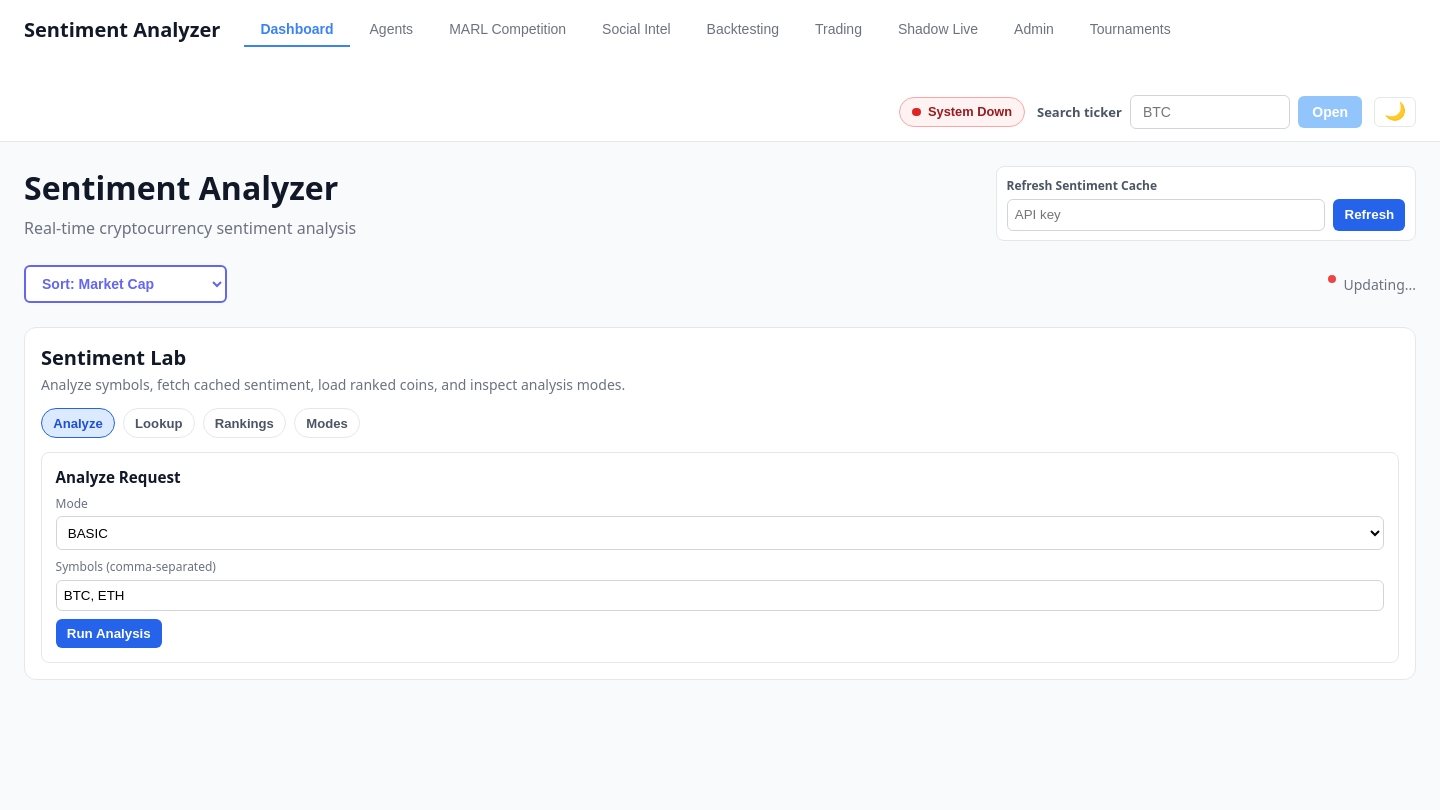
Test case: AgentManagementDashboard — Issue 6 tournament detail enhancements › renders Claude directive block with mutation severity, crossover strategy, and reasoning text (AC4)
The image size is (1440, 810).
Click the button "Agents".
click(391, 30)  # box [354, 12, 429, 46]
(page scrolled)
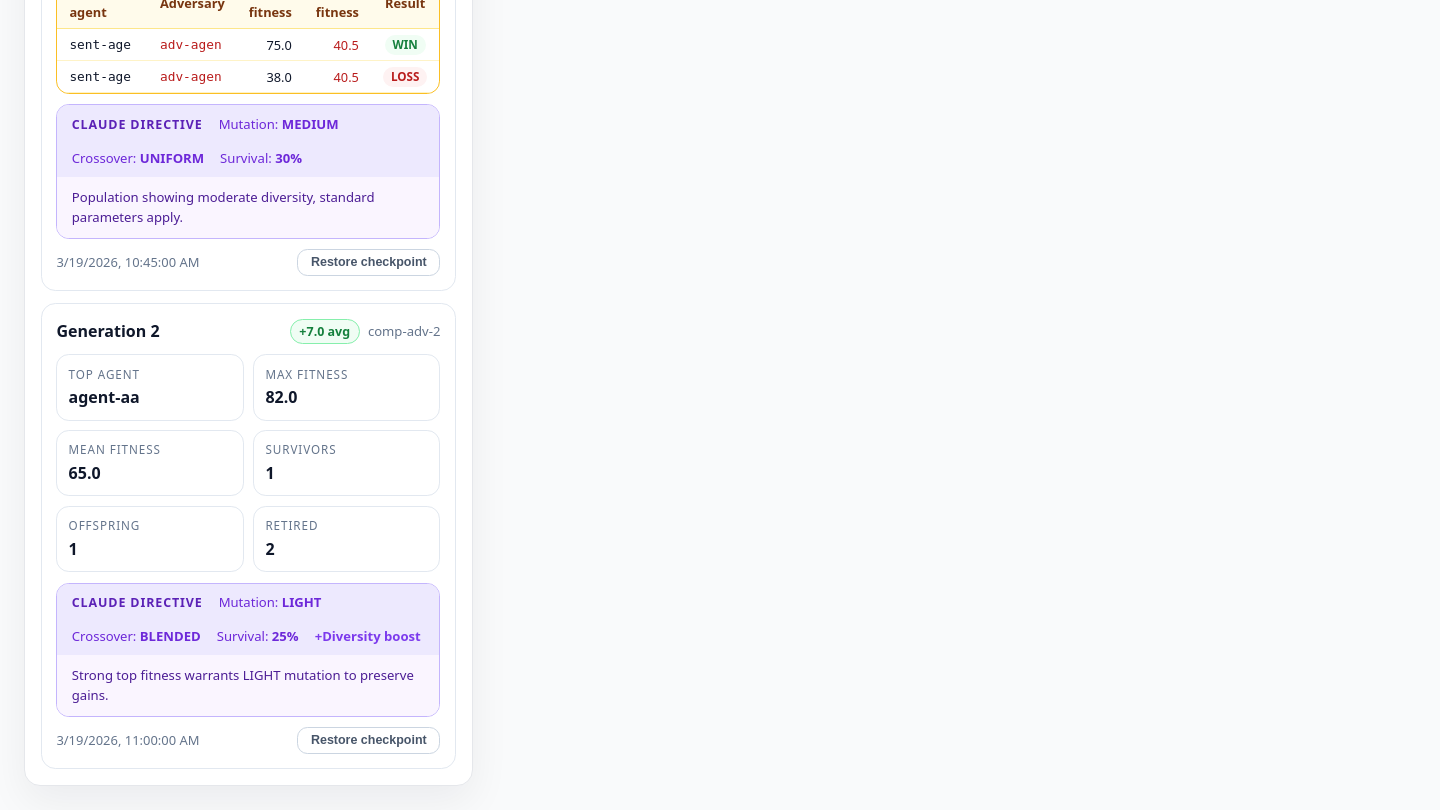
expect the text "Claude Directive" in the row of "MEDIUM" is shown: met, box [72, 116, 203, 132]
expect the text "Population showing moderate diversity, standard parameters apply." is shown: met, box [57, 177, 440, 238]
expect the text "Strong top fitness warrants LIGHT mutation to preserve gains." is shown: met, box [57, 655, 440, 716]
